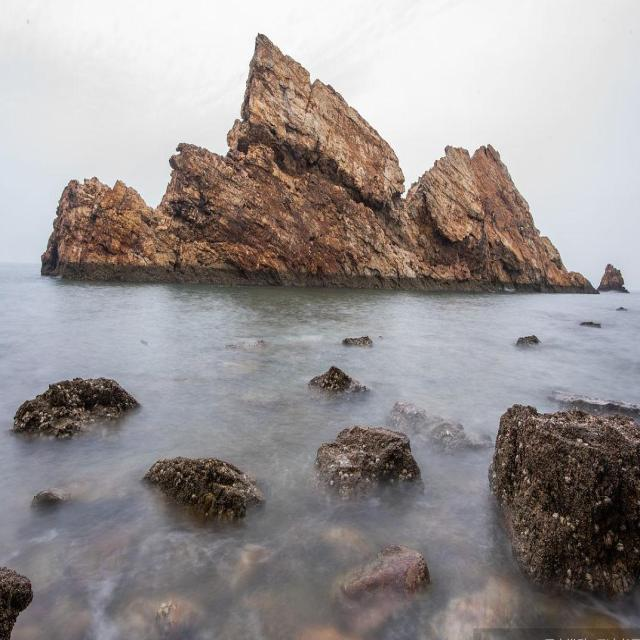reef: (52, 21, 580, 295)
